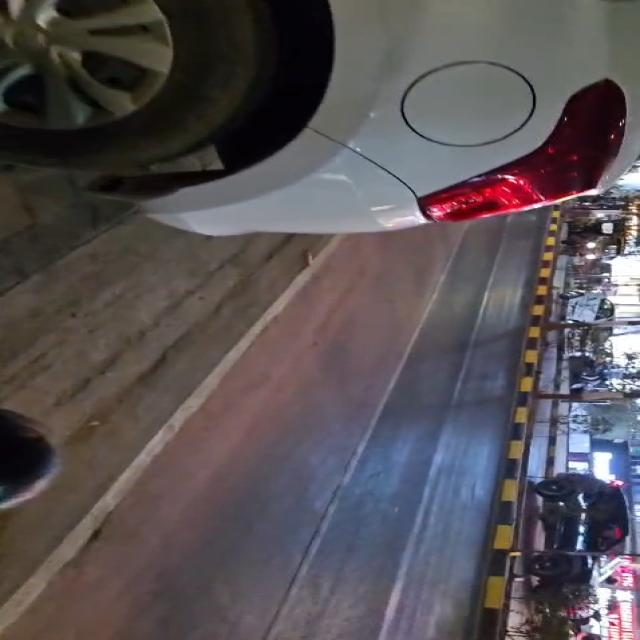vehicle: (0, 0, 639, 234), (528, 473, 629, 586), (566, 292, 615, 323)
